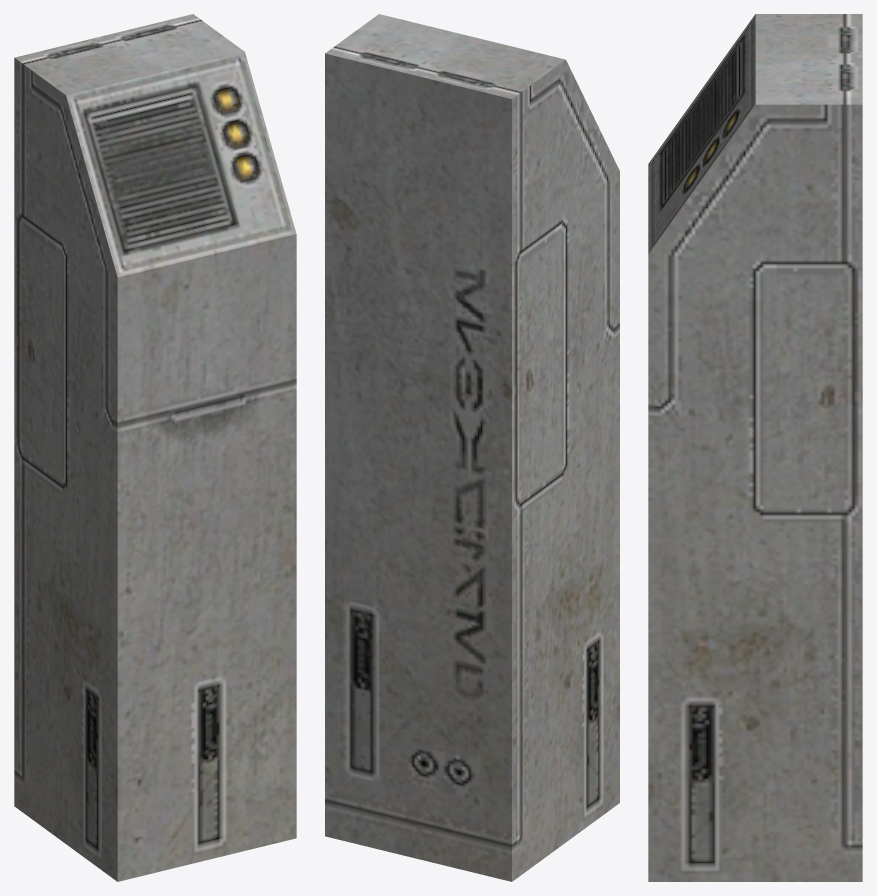
Rendered from con_gen_organic_food_l0.fbx.
3 views of the same model, side by side, from view 1: azimuth 30°, elevation 25°; view 2: azimuth 150°, elevation 25°; view 3: azimuth 270°, elevation 25° (orthographic). The views are drawn at different scales.
Parts seen in each view (by area): view 1: mesh_node; view 2: mesh_node; view 3: mesh_node.
Part boxes in pixels (x1,y1,x2,y2): mesh_node: (14,14,296,881); mesh_node: (325,14,619,881); mesh_node: (648,14,862,881).
Size of the model in its own units: 0.303 by 1.21 by 0.303.
